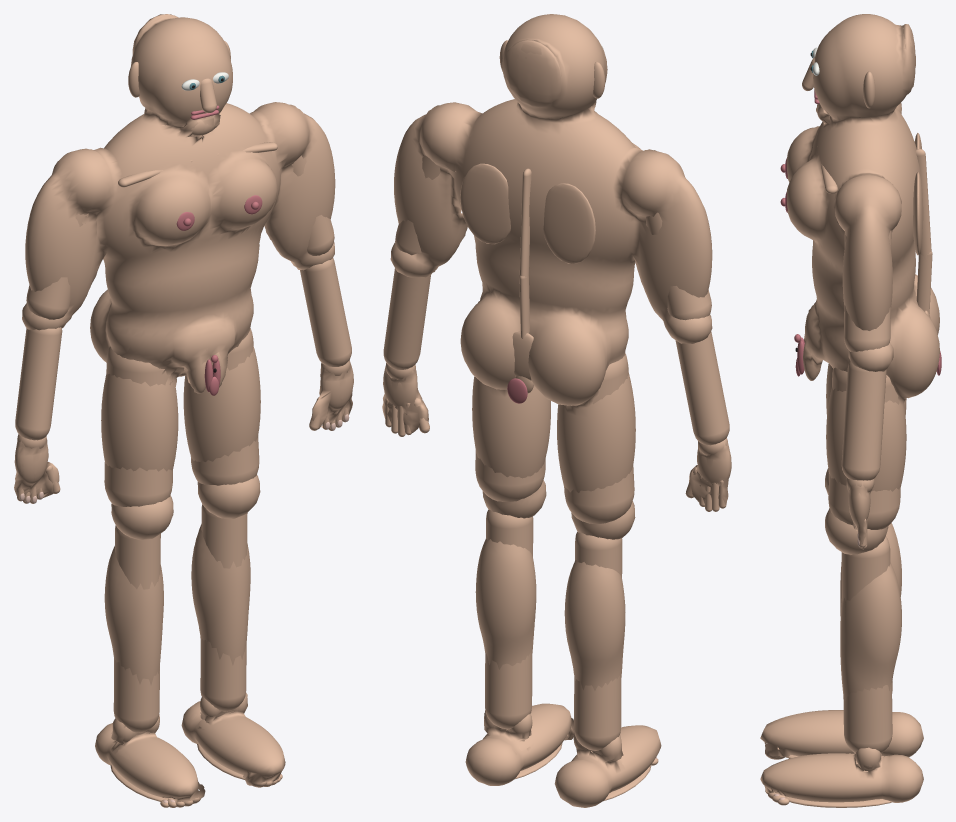
The model's file is body-erwachsener-divers-vulva-brueste-v2.glb.
3 renders of one model, left to right at view 1: azimuth 30°, elevation 25°; view 2: azimuth 150°, elevation 25°; view 3: azimuth 270°, elevation 25°, orthographic. The views are drawn at different scales.
Parts seen in each view (by area): view 1: zone__visual-surface-body-erwachsener-divers-vulva-brueste, zone__surface-lower-leg-right, zone__surface-lower-leg-left, zone__surface-forearm-left, zone__surface-thigh-left, zone__surface-forearm-right, zone__surface-thigh-right, zone__surface-upper-arm-left, zone__surface-upper-arm-right; view 2: zone__visual-surface-body-erwachsener-divers-vulva-brueste, zone__surface-lower-leg-left, zone__surface-lower-leg-right, zone__surface-forearm-left, zone__surface-forearm-right, zone__surface-scapula-left, zone__surface-scapula-right, zone__surface-thigh-left, zone__surface-thigh-right, zone__surface-upper-arm-left, zone__surface-thoracic-spine, zone__surface-upper-arm-right (+1 smaller); view 3: zone__visual-surface-body-erwachsener-divers-vulva-brueste, zone__surface-lower-leg-right, zone__surface-forearm-right, zone__surface-thigh-right, zone__surface-upper-arm-right, zone__surface-thoracic-spine, zone__surface-lumbar-spine, zone__surface-scapula-right, zone__surface-sole-right, zone__surface-ear-right.
Part boxes in pixels (x1,y1,x2,y2): zone__visual-surface-body-erwachsener-divers-vulva-brueste: (14,14,353,802); zone__surface-lower-leg-right: (200,504,247,711); zone__surface-lower-leg-left: (113,525,160,732); zone__surface-forearm-left: (15,327,62,440); zone__surface-thigh-left: (104,346,173,506); zone__surface-forearm-right: (300,258,351,366); zone__surface-thigh-right: (190,328,259,485); zone__surface-upper-arm-left: (26,213,88,319); zone__surface-upper-arm-right: (291,155,334,255); zone__visual-surface-body-erwachsener-divers-vulva-brueste: (382,14,731,807); zone__surface-lower-leg-left: (574,532,622,750); zone__surface-lower-leg-right: (485,509,533,729); zone__surface-forearm-left: (675,331,729,445); zone__surface-forearm-right: (383,268,430,369); zone__surface-scapula-left: (543,183,595,263); zone__surface-scapula-right: (460,163,510,244); zone__surface-thigh-left: (564,353,634,523); zone__surface-thigh-right: (475,450,545,501); zone__surface-upper-arm-left: (646,212,711,320); zone__surface-thoracic-spine: (519,168,531,282); zone__surface-upper-arm-right: (395,155,456,255); zone__visual-surface-body-erwachsener-divers-vulva-brueste: (760,14,939,802); zone__surface-lower-leg-right: (841,536,892,753); zone__surface-forearm-right: (841,360,886,480); zone__surface-thigh-right: (828,367,900,529); zone__surface-upper-arm-right: (844,230,891,351); zone__surface-thoracic-spine: (915,149,931,259); zone__surface-lumbar-spine: (916,251,932,313); zone__surface-scapula-right: (913,172,923,255); zone__surface-sole-right: (786,796,892,807); zone__surface-ear-right: (863,71,875,108).
Bounding box in the file's own units: 0.8172 × 1.72 × 0.3729.
